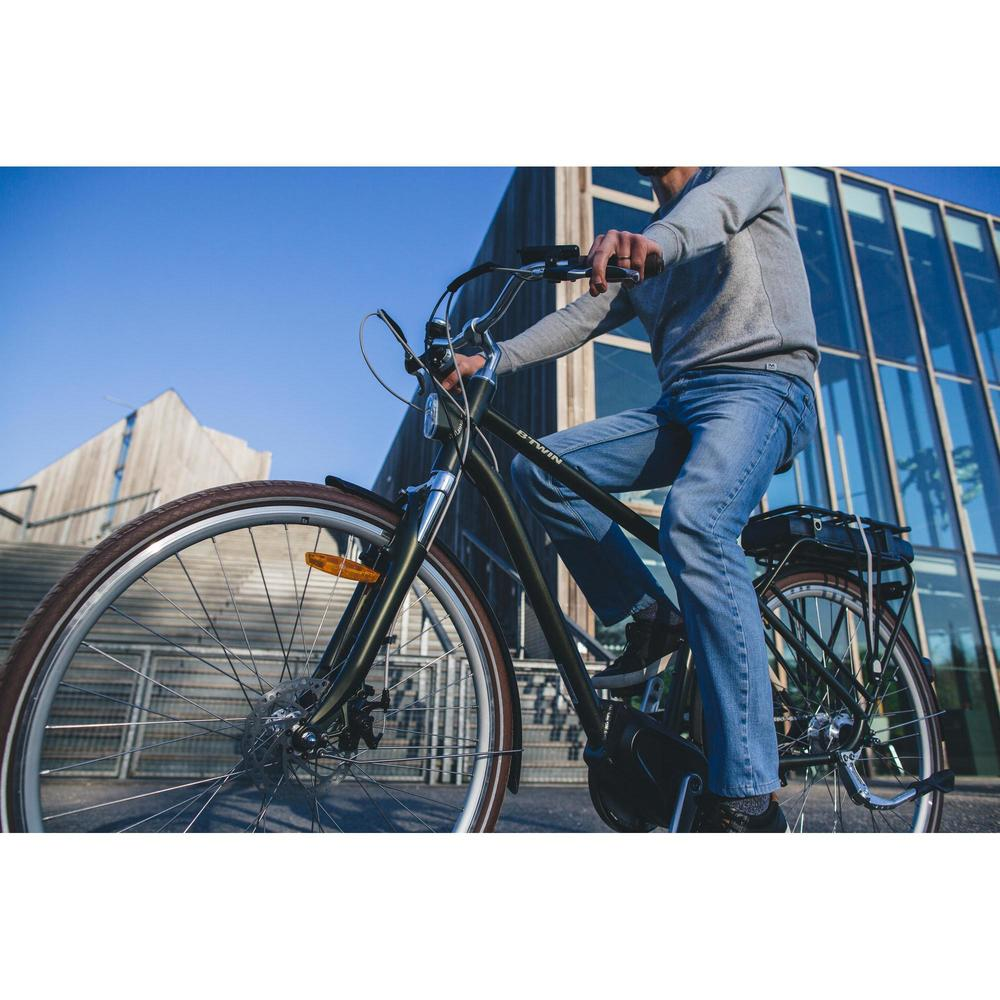UrbanBike: (5, 221, 977, 874)
